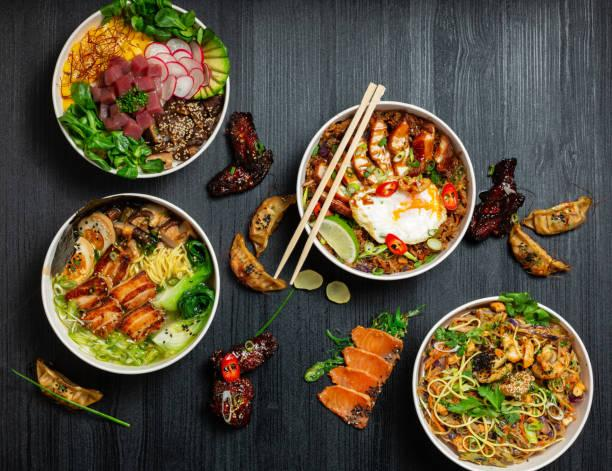Braised Crucian Carp: (41, 194, 217, 375), (411, 296, 594, 469), (294, 102, 471, 280), (50, 2, 226, 179)
